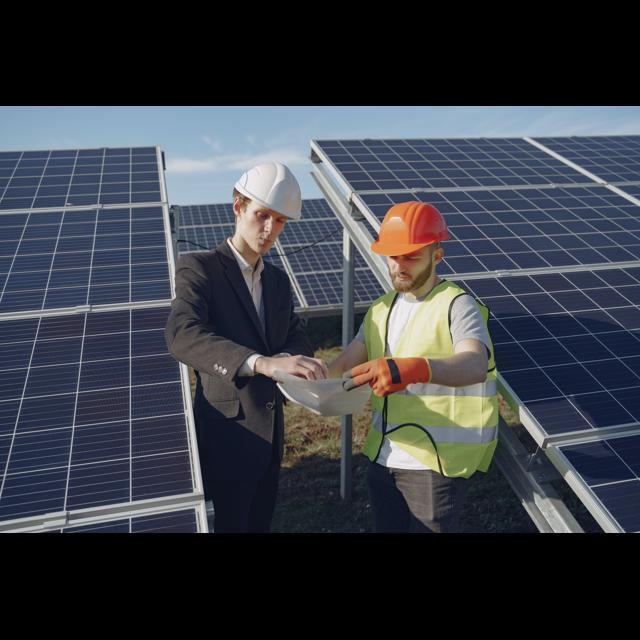helmet: (360, 195, 452, 258), (230, 156, 304, 222)
safety_vest: (357, 287, 502, 478)
